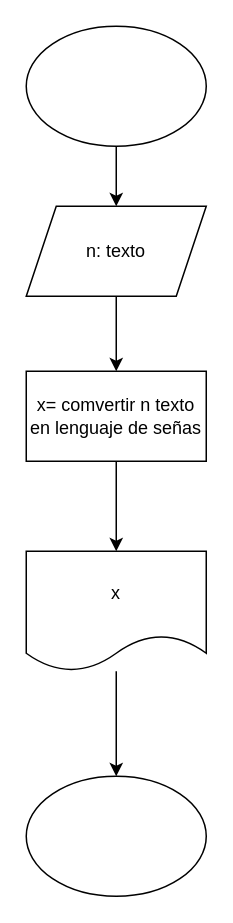
Image size: 233x923. Some labels were removed from this diagram. Each missing label, with the centre of its shape:
fin: pixel 115 835
inicio: pixel 115 85
